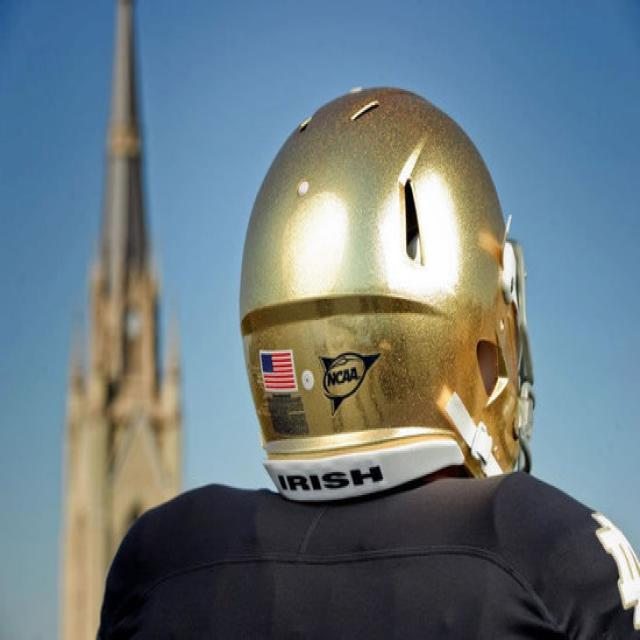illegal_helmet: (231, 72, 542, 518)
